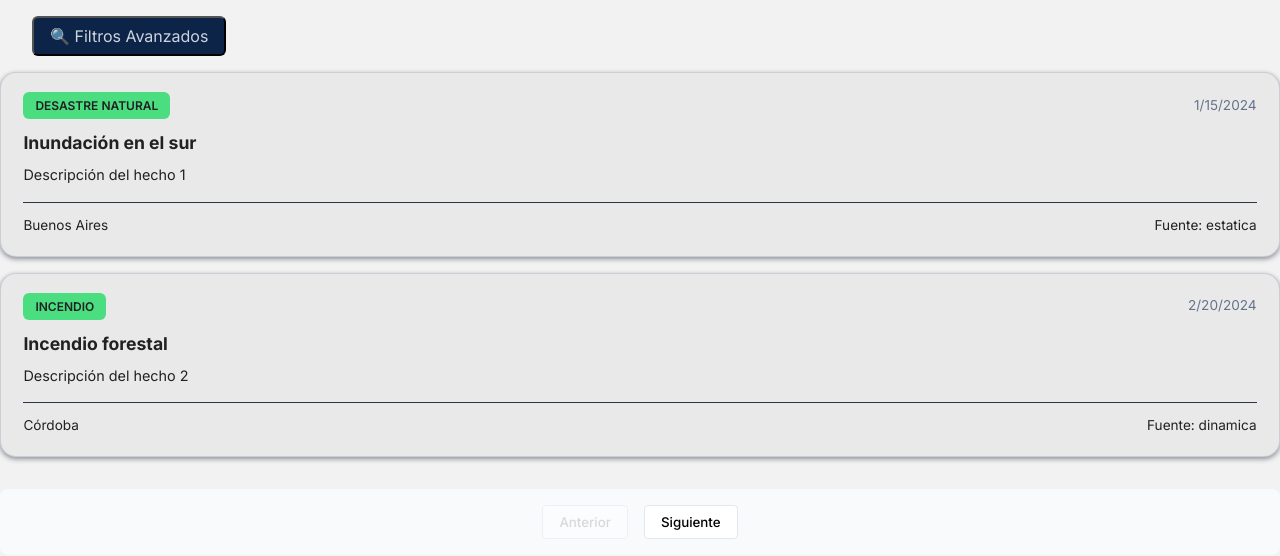
Scenario: HechosListNav › paginación › avanza a la siguiente página al hacer click en Siguiente
Click the button "Siguiente" at (691, 522), box [644, 505, 738, 539]
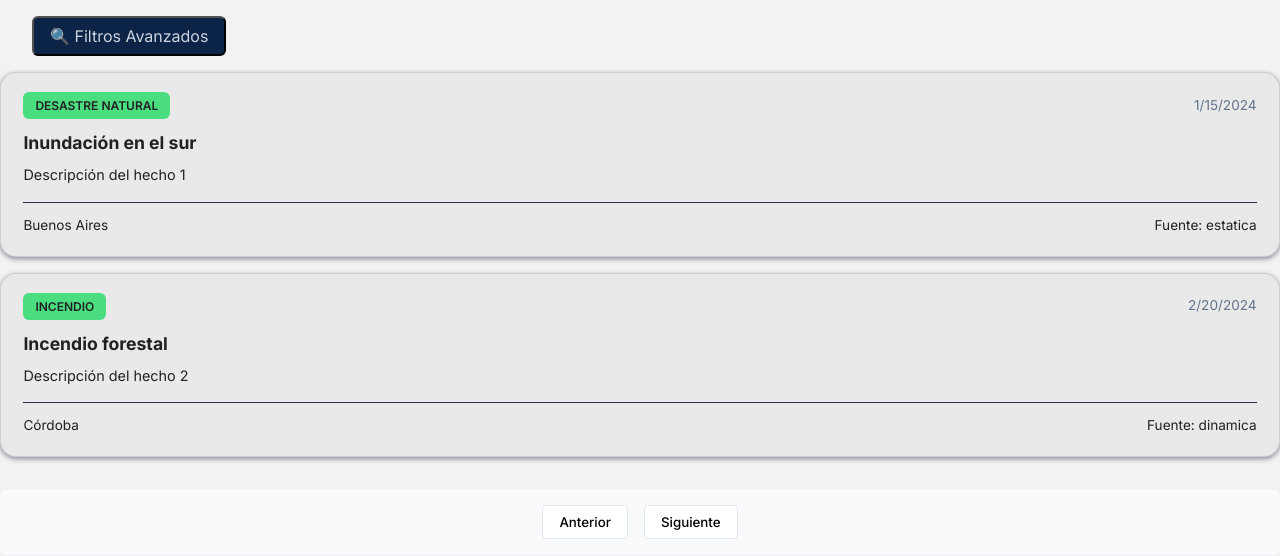
Expected: the button "Anterior" is enabled, [542, 505, 628, 539]
